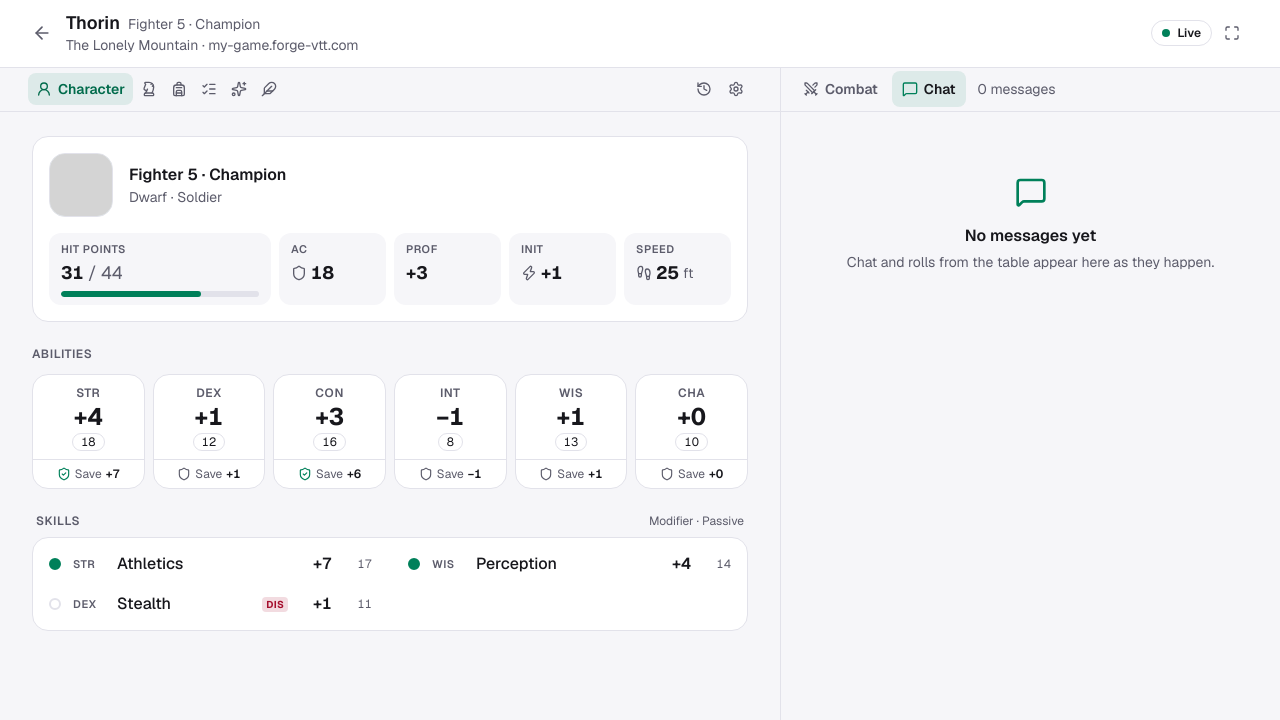
Test: components/game-table, party sheets › opens a player's party sheet over their character's, through their character, and its page
What coordinates should you click on to do the following:
click the tab named "Inventory"
I would click on:
 (179, 89)
Its box is top-left (165, 73), bottom-right (193, 105).
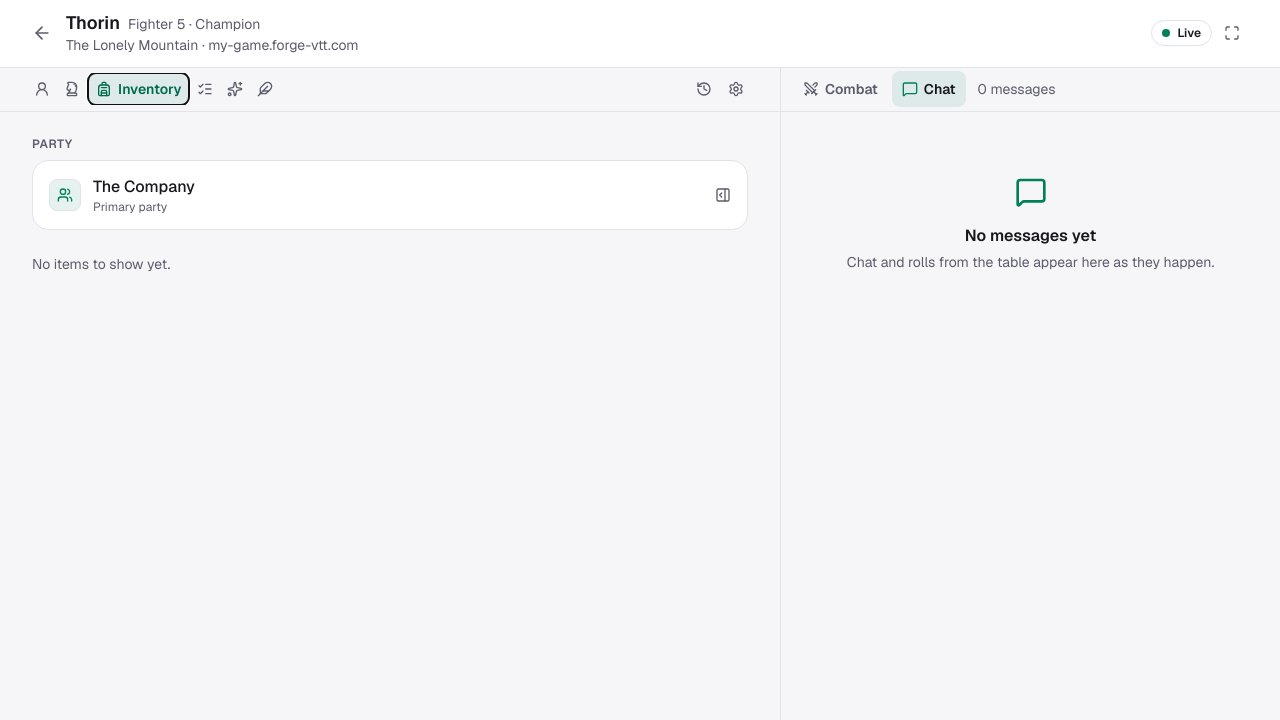
What coordinates should you click on to do the following:
click the button "The Company Primary party"
I would click on:
 (65, 194)
Its box is top-left (39, 166), bottom-right (741, 222).
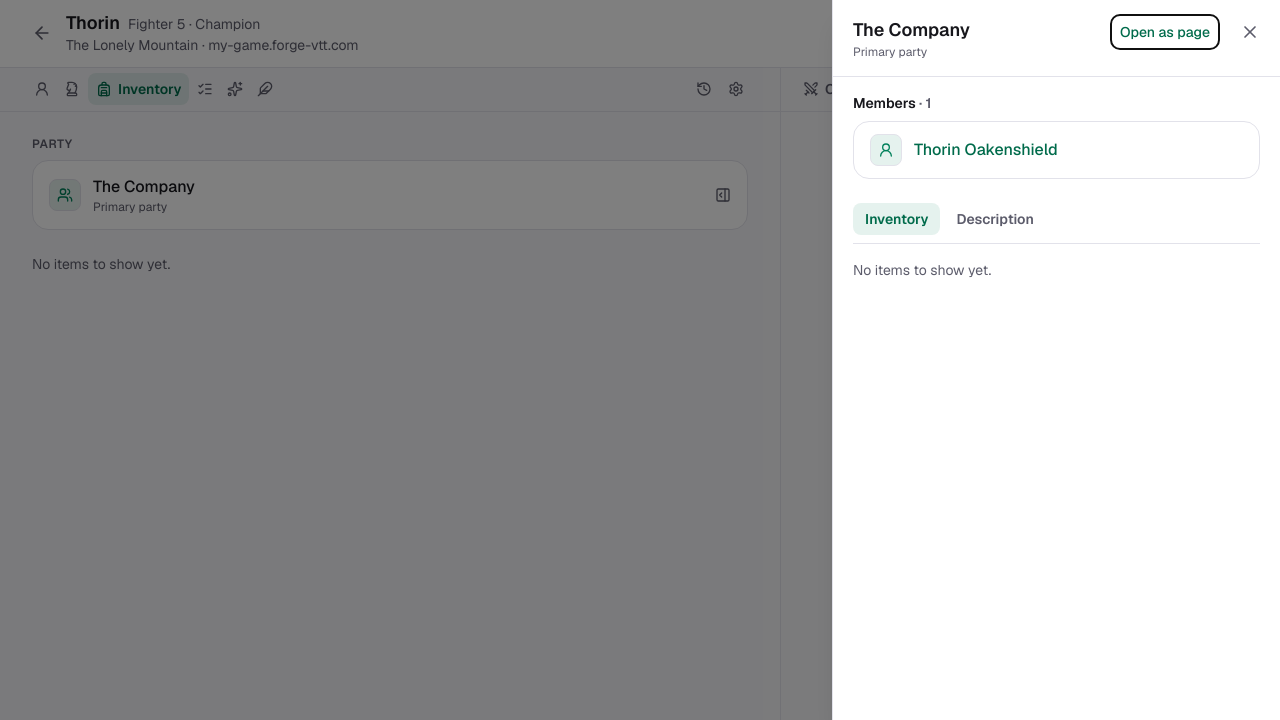
Result: the heading "Members · 1" is shown at top-left (853, 94), bottom-right (931, 112)
What coordinates should you click on to do the following:
click the button named "Close"
I would click on:
 (1250, 32)
Its box is top-left (1234, 16), bottom-right (1266, 48).
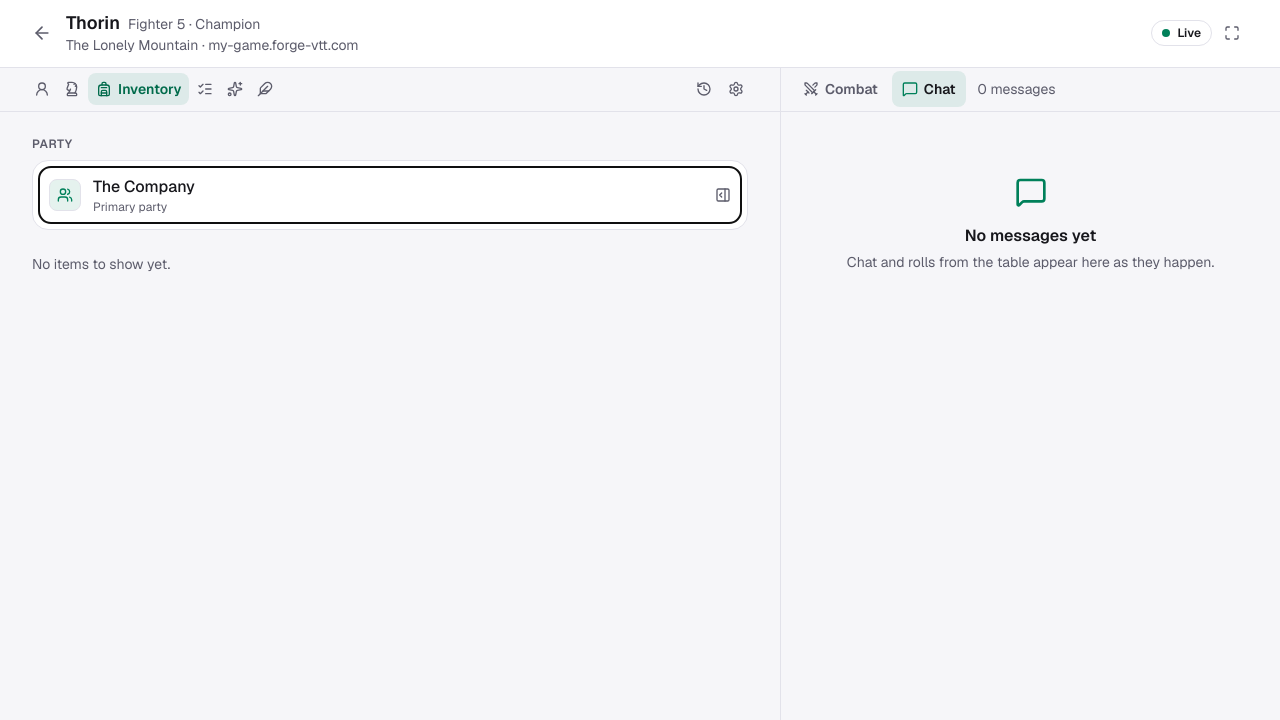
Result: the dialog is gone
